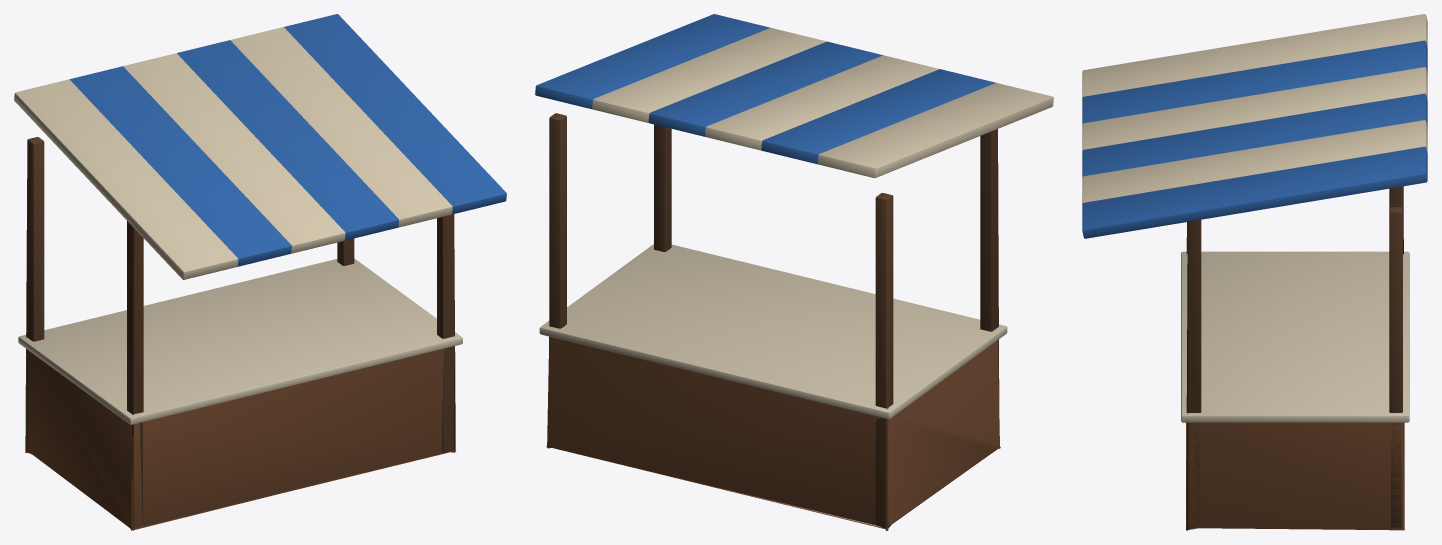
File: st-k78nzx.glb
The picture shows the model from 3 angles, left to right: view 1: azimuth 30°, elevation 25°; view 2: azimuth 150°, elevation 25°; view 3: azimuth 270°, elevation 25°; orthographic projection. The views are drawn at different scales.
Bounding box in the file's own units: 2.9 × 2.93 × 2.57.
